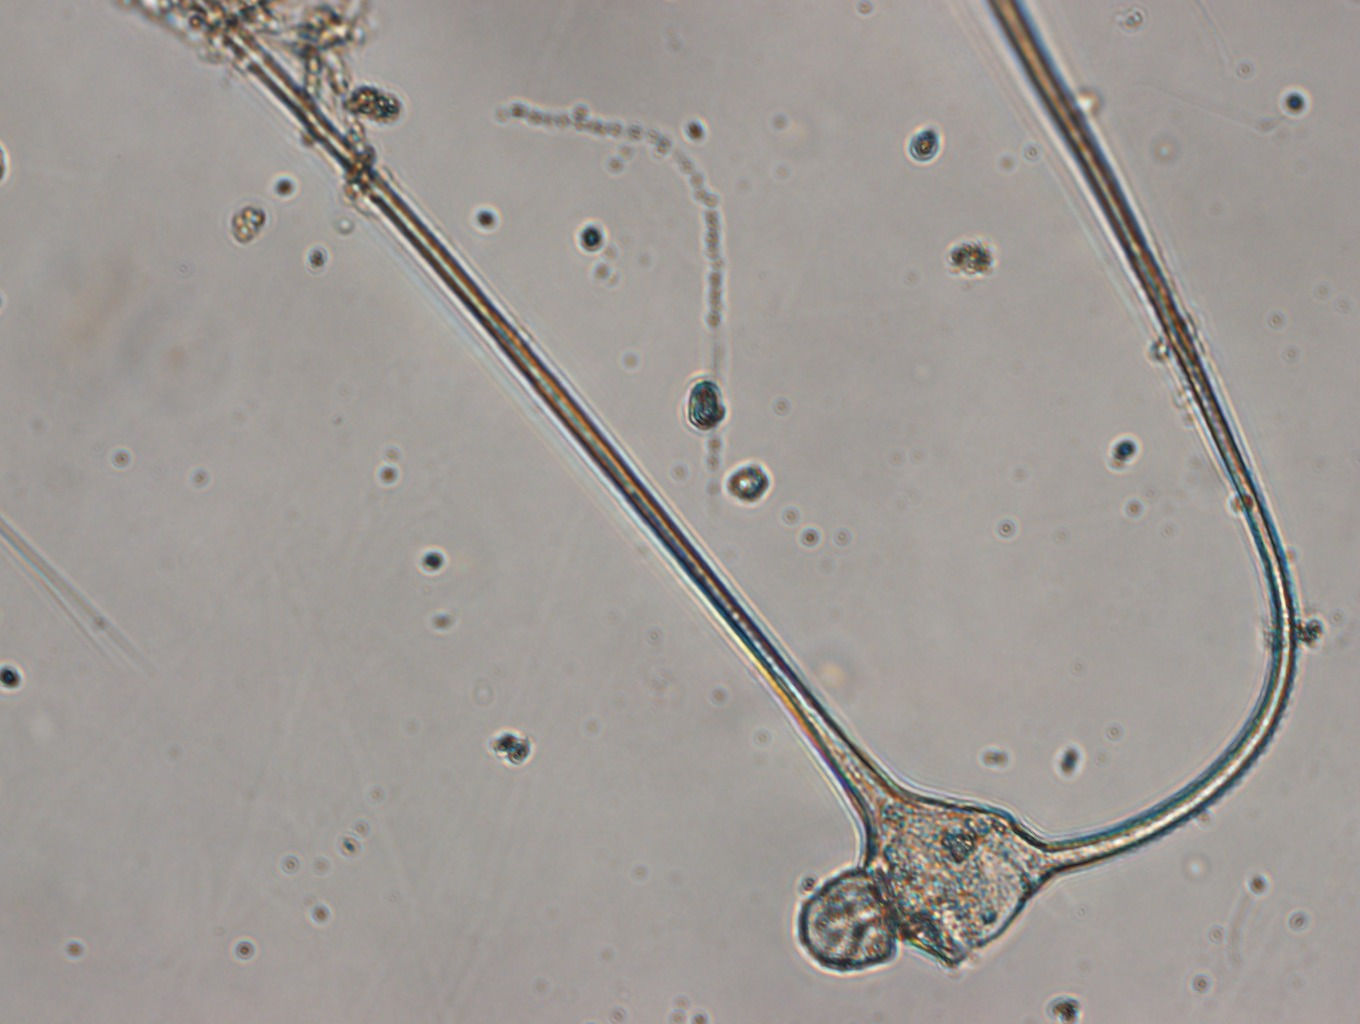ceratium trichoceros: (181, 4, 1314, 986)
